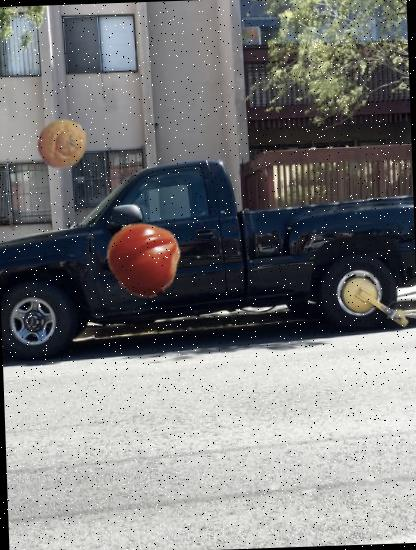Mandarine: (35, 117, 90, 171)
Tomato: (106, 219, 185, 298)
